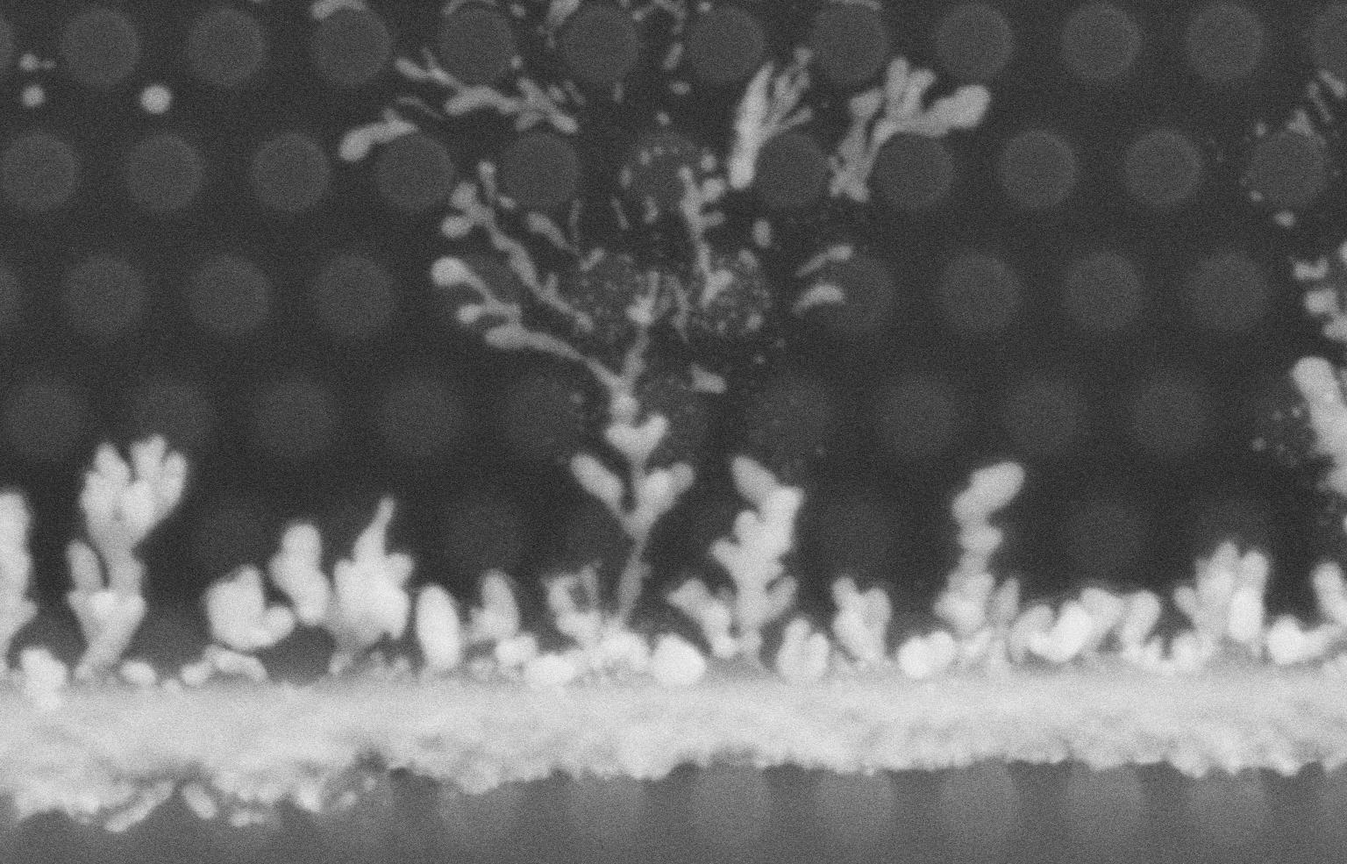Dendrite: (1, 411, 1346, 803), (0, 661, 1346, 830), (414, 259, 695, 687), (654, 209, 785, 463), (67, 436, 187, 677), (339, 47, 578, 161), (442, 157, 593, 327), (268, 498, 414, 671), (830, 57, 989, 202), (1251, 357, 1346, 536), (398, 60, 585, 134), (680, 218, 771, 339), (620, 128, 709, 223), (203, 567, 294, 652), (0, 490, 37, 672), (1294, 239, 1346, 345), (1290, 70, 1346, 138), (613, 0, 710, 39), (182, 644, 267, 684), (502, 0, 582, 42), (13, 648, 68, 709), (797, 245, 852, 278), (791, 282, 844, 314), (113, 660, 160, 689), (310, 0, 366, 19), (690, 363, 725, 393), (140, 84, 171, 113), (19, 52, 53, 71), (441, 0, 478, 16), (21, 84, 45, 108), (1273, 212, 1295, 229), (669, 81, 690, 95), (666, 47, 681, 65), (1253, 120, 1267, 137), (656, 111, 672, 125), (614, 90, 623, 104), (1256, 196, 1257, 197)
